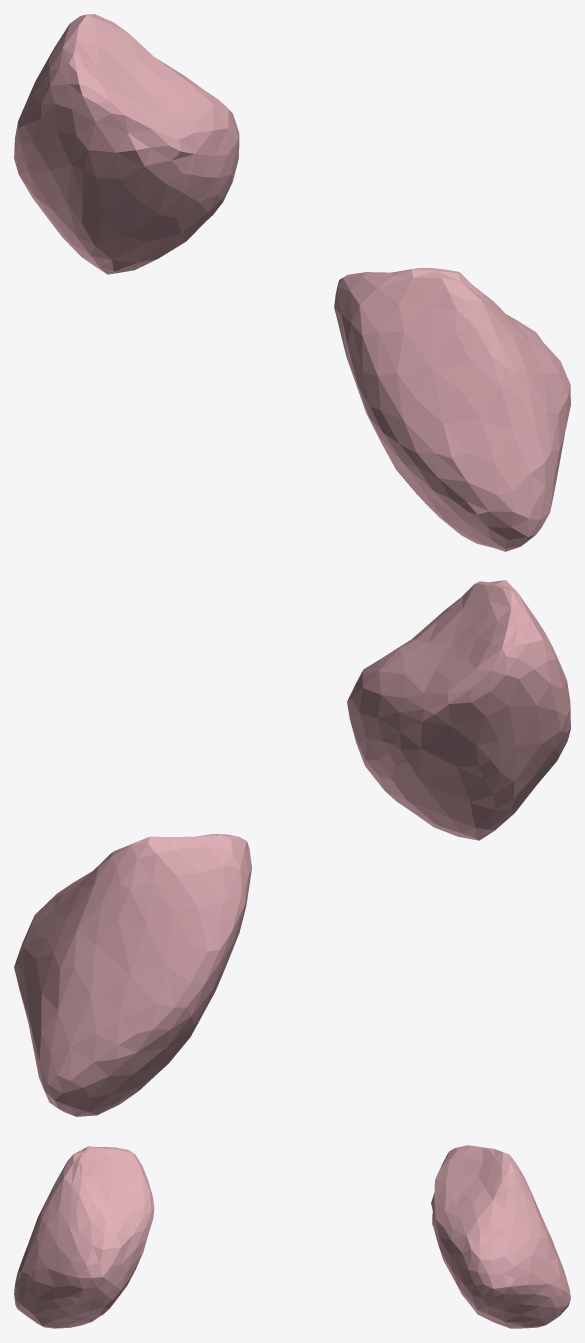
The picture shows the model from 3 angles, top to bottom: view 1: azimuth 30°, elevation 25°; view 2: azimuth 150°, elevation 25°; view 3: azimuth 270°, elevation 25°; orthographic projection. The views are drawn at different scales.
Parts seen in each view (by area): view 1: 255.obj; view 2: 255.obj; view 3: 255.obj.
Boxes of the visible parts, x1=… form: 255.obj: x1=14, y1=14, x2=570, y2=551; 255.obj: x1=14, y1=580, x2=570, y2=1116; 255.obj: x1=14, y1=1145, x2=570, y2=1328.
Bounding box in the file's own units: 744 × 926 × 2833.
